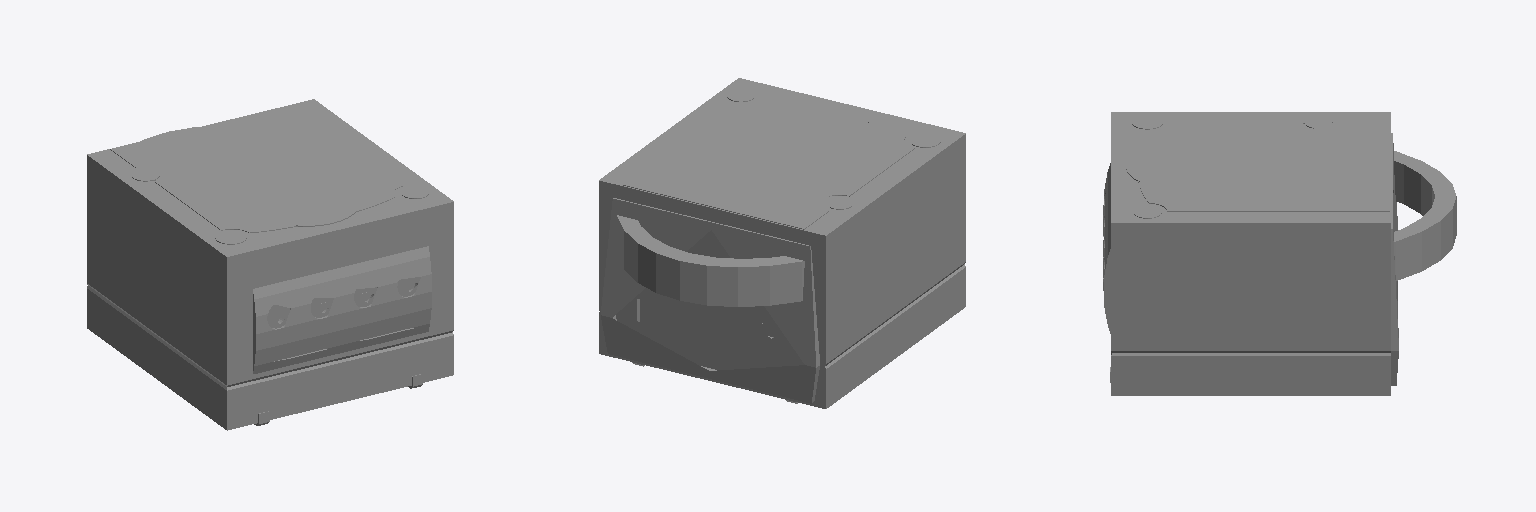
Rendered from Gamecube.obj.
3 views of the same model, side by side, from view 1: azimuth 30°, elevation 25°; view 2: azimuth 150°, elevation 25°; view 3: azimuth 270°, elevation 25° (orthographic).
Visible parts, largest first — view 1: Gamecube_Cylinder.002; view 2: Gamecube_Cylinder.002; view 3: Gamecube_Cylinder.002.
Part boxes in pixels (x1,y1,x2,y2): Gamecube_Cylinder.002: (87, 99, 453, 430); Gamecube_Cylinder.002: (599, 78, 965, 408); Gamecube_Cylinder.002: (1103, 112, 1456, 395).
Bounding box in the file's own units: 0.1499 × 0.1127 × 0.2014.